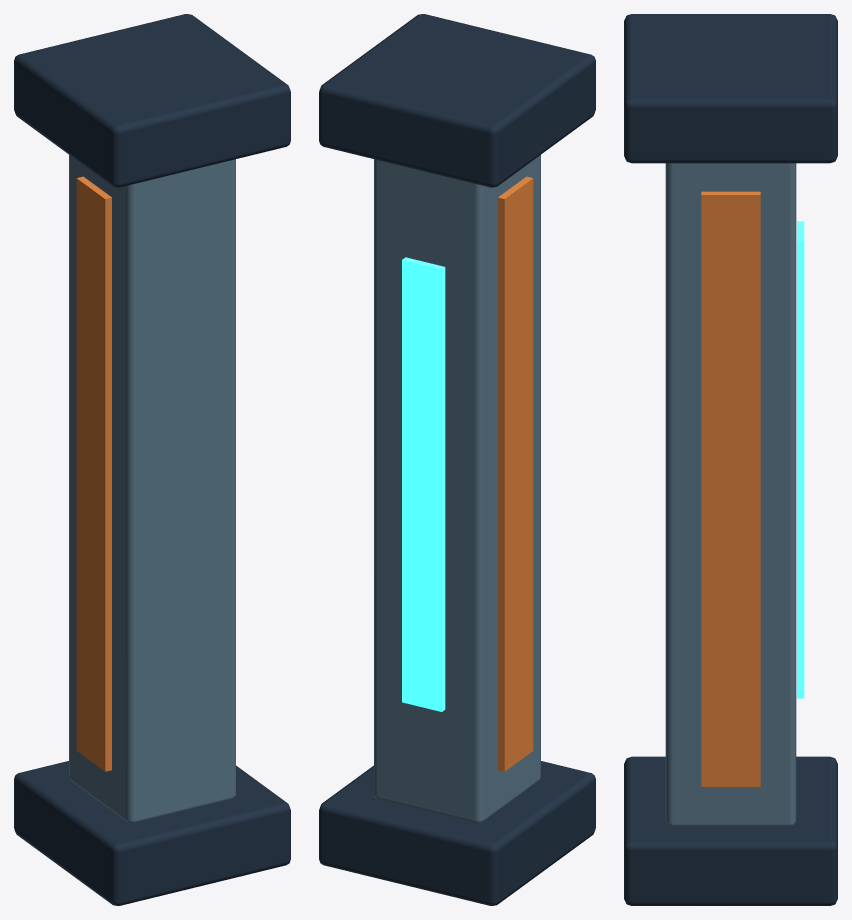
Rendered from support-column.glb.
3 renders of one model, left to right at view 1: azimuth 30°, elevation 25°; view 2: azimuth 150°, elevation 25°; view 3: azimuth 270°, elevation 25°, orthographic. The views are drawn at different scales.
Visible parts, largest first — view 1: pillar, foot-2.88, foot-0.12, stripe--0.23; view 2: pillar, foot-2.88, foot-0.12, stripe--0.23, lamp; view 3: pillar, stripe-0.23, foot-2.88, foot-0.12, lamp.
Boxes of the visible parts, left/top/right/bottom form: pillar: left=69, top=155, right=235, bottom=822; foot-2.88: left=14, top=14, right=290, bottom=187; foot-0.12: left=14, top=761, right=290, bottom=905; stripe--0.23: left=76, top=176, right=111, bottom=771; pillar: left=374, top=155, right=540, bottom=822; foot-2.88: left=319, top=14, right=595, bottom=187; foot-0.12: left=319, top=761, right=595, bottom=905; stripe--0.23: left=498, top=176, right=533, bottom=771; lamp: left=402, top=257, right=445, bottom=711; pillar: left=665, top=163, right=796, bottom=826; stripe-0.23: left=701, top=191, right=760, bottom=786; foot-2.88: left=624, top=14, right=837, bottom=163; foot-0.12: left=624, top=756, right=837, bottom=905; lamp: left=797, top=221, right=804, bottom=698.
Bounding box in the file's own units: 0.72 × 3 × 0.72.
